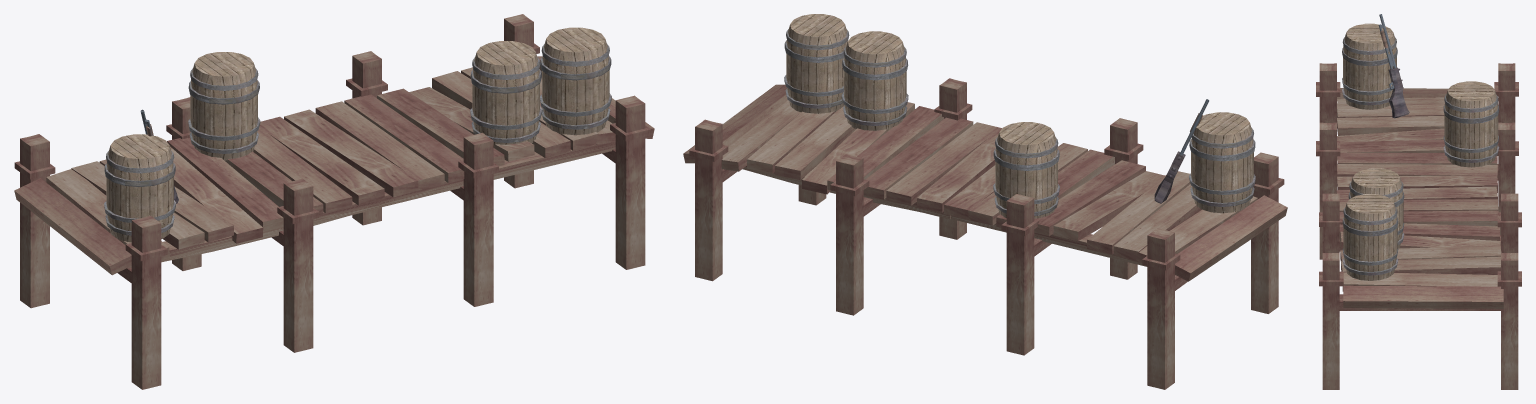
The model's file is Dock_Scene_done.fbx.
3 renders of one model, left to right at view 1: azimuth 30°, elevation 25°; view 2: azimuth 150°, elevation 25°; view 3: azimuth 270°, elevation 25°, orthographic. The views are drawn at different scales.
Visible parts, largest first — view 1: Plank008, Plank009, Pole1, Pole002, Cylinder001, Cylinder003, Cylinder002, Cylinder004, Undersite plank001, Rim, Rim002, Rim001 (+2 smaller); view 2: Plank009, Plank008, Pole1, Pole002, Cylinder004, Cylinder002, Cylinder001, Cylinder003, Rim001, Rim003, Rim, Rim002 (+3 smaller); view 3: Plank009, Plank008, Pole002, Pole1, Cylinder001, Cylinder003, Cylinder004, Cylinder002, Rim002, Rim, Rim003, Handvat (+2 smaller).
Boxes of the visible parts, bbox=[...] form: Plank008: bbox=[14, 116, 384, 275]; Plank009: bbox=[284, 56, 654, 197]; Pole1: bbox=[14, 97, 319, 389]; Pole002: bbox=[346, 14, 650, 306]; Cylinder001: bbox=[542, 27, 609, 135]; Cylinder003: bbox=[190, 52, 257, 160]; Cylinder002: bbox=[472, 41, 539, 147]; Cylinder004: bbox=[106, 134, 173, 242]; Undersite plank001: bbox=[381, 142, 615, 207]; Rim: bbox=[540, 44, 611, 129]; Rim002: bbox=[188, 68, 260, 153]; Rim001: bbox=[470, 57, 542, 142]; Plank009: bbox=[683, 84, 1001, 212]; Plank008: bbox=[944, 143, 1287, 281]; Pole1: bbox=[1001, 118, 1284, 389]; Pole002: bbox=[689, 78, 972, 315]; Cylinder004: bbox=[1191, 112, 1253, 213]; Cylinder002: bbox=[844, 31, 906, 130]; Cylinder001: bbox=[786, 14, 848, 113]; Cylinder003: bbox=[995, 122, 1057, 218]; Rim001: bbox=[841, 46, 908, 125]; Rim003: bbox=[1189, 127, 1255, 206]; Rim: bbox=[784, 29, 849, 108]; Rim002: bbox=[993, 137, 1059, 215]; Plank009: bbox=[1336, 186, 1503, 308]; Plank008: bbox=[1337, 88, 1497, 193]; Pole002: bbox=[1319, 193, 1521, 389]; Pole1: bbox=[1316, 63, 1518, 259]; Cylinder001: bbox=[1343, 194, 1397, 280]; Cylinder003: bbox=[1444, 81, 1498, 167]; Cylinder004: bbox=[1343, 23, 1396, 109]; Cylinder002: bbox=[1349, 168, 1403, 248]; Rim002: bbox=[1443, 94, 1499, 162]; Rim: bbox=[1342, 207, 1398, 275]; Rim003: bbox=[1342, 37, 1397, 105]; Handvat: bbox=[1388, 67, 1409, 118].
Bounding box in the file's own units: 181 × 76.37 × 73.46.
Materials: 6 (6 with a texture image).
